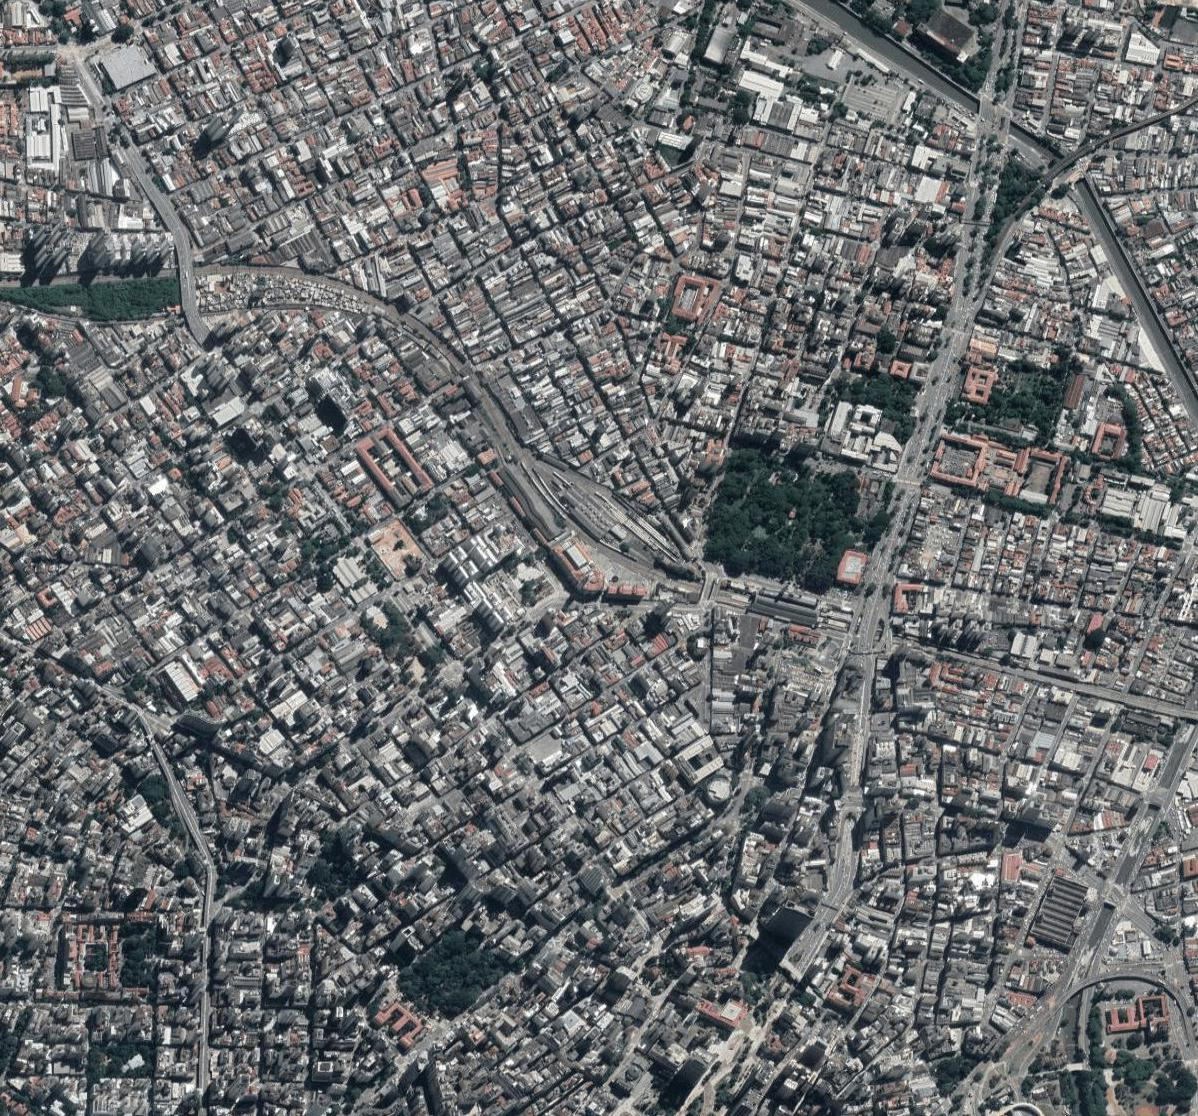train_station: (543, 471, 656, 573)
